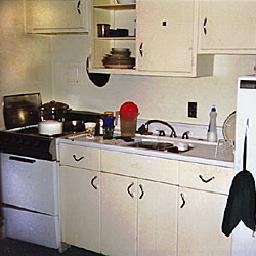Electrodomestico: (5, 132, 63, 247), (231, 76, 254, 254)
Lavaplatos: (119, 114, 197, 163)
